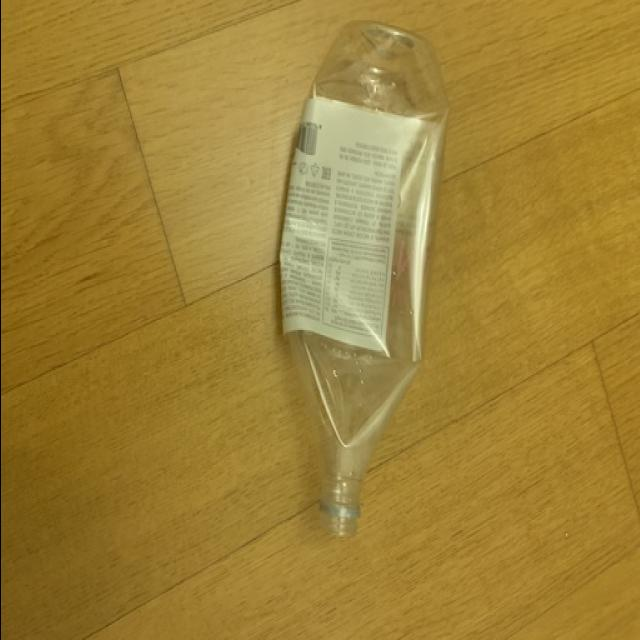litter: (265, 17, 455, 553)
